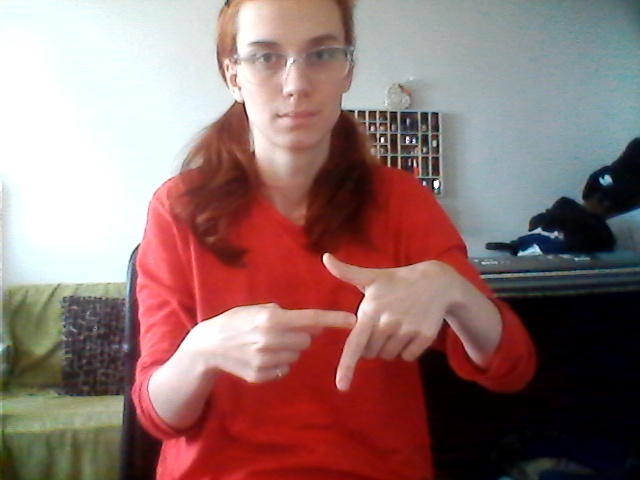f: (219, 241, 446, 408)
